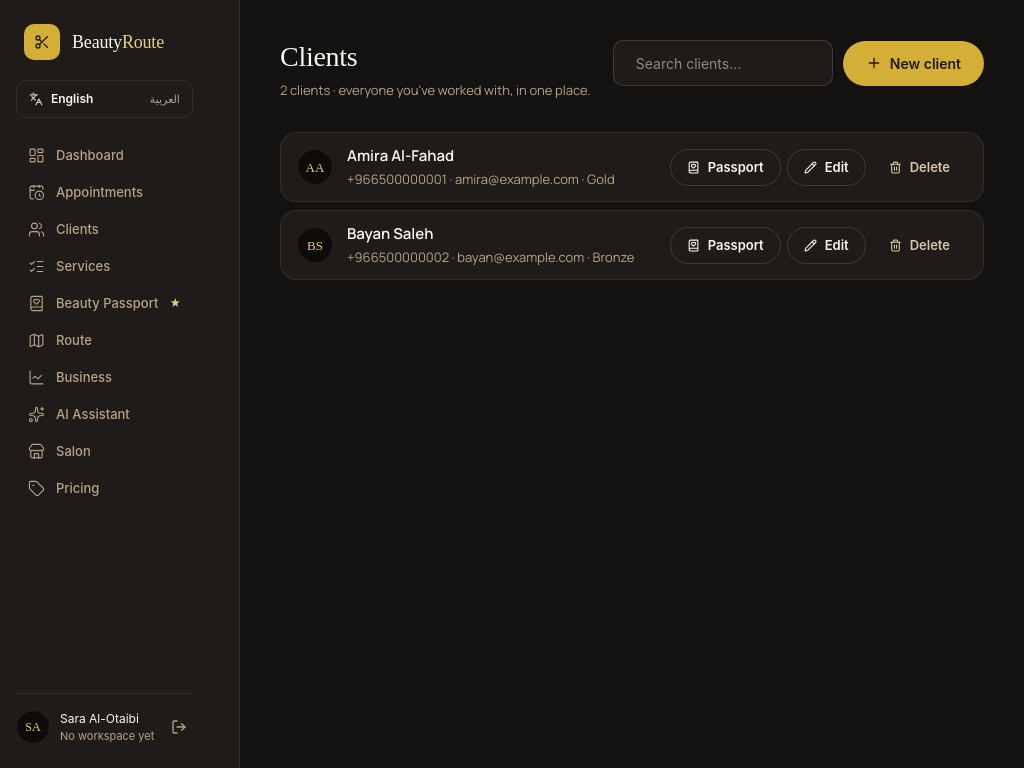
Test: Clients page › deletes a client successfully and removes it from the list
Expected: the text "Amira Al-Fahad" is shown, [347,145,454,166]
Click the button "Delete" in the row of "Gold". click: click(919, 167)
box: [872,149,967,186]
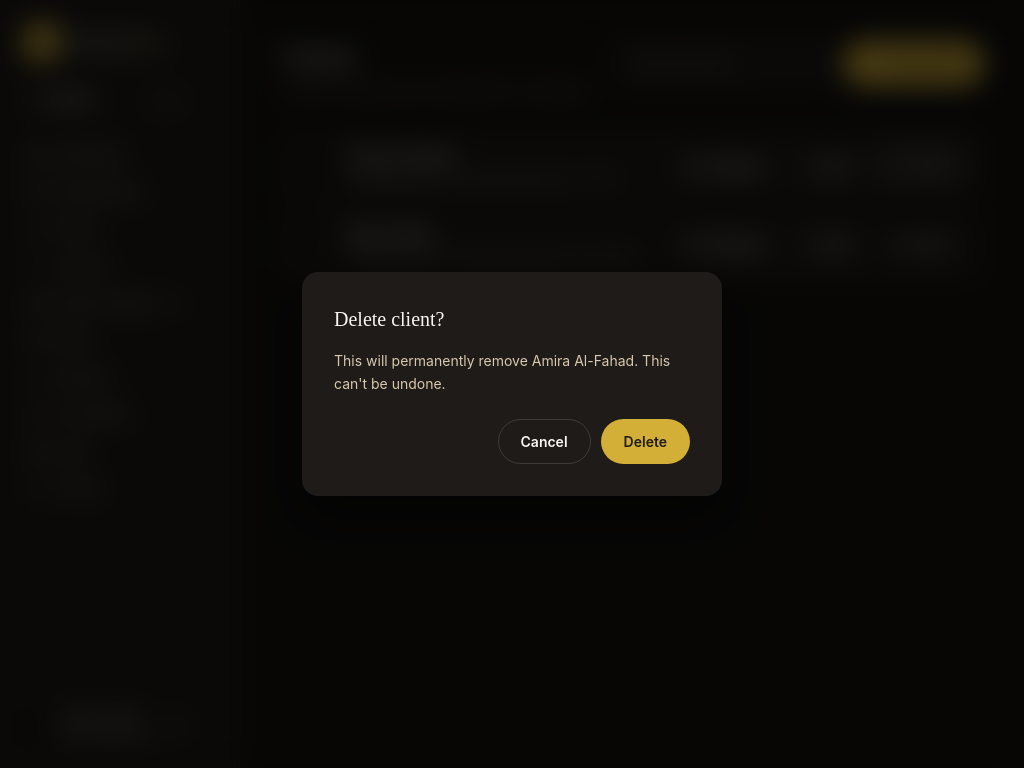
Click the button "Delete". click: click(645, 441)
box: [601,419,690,464]
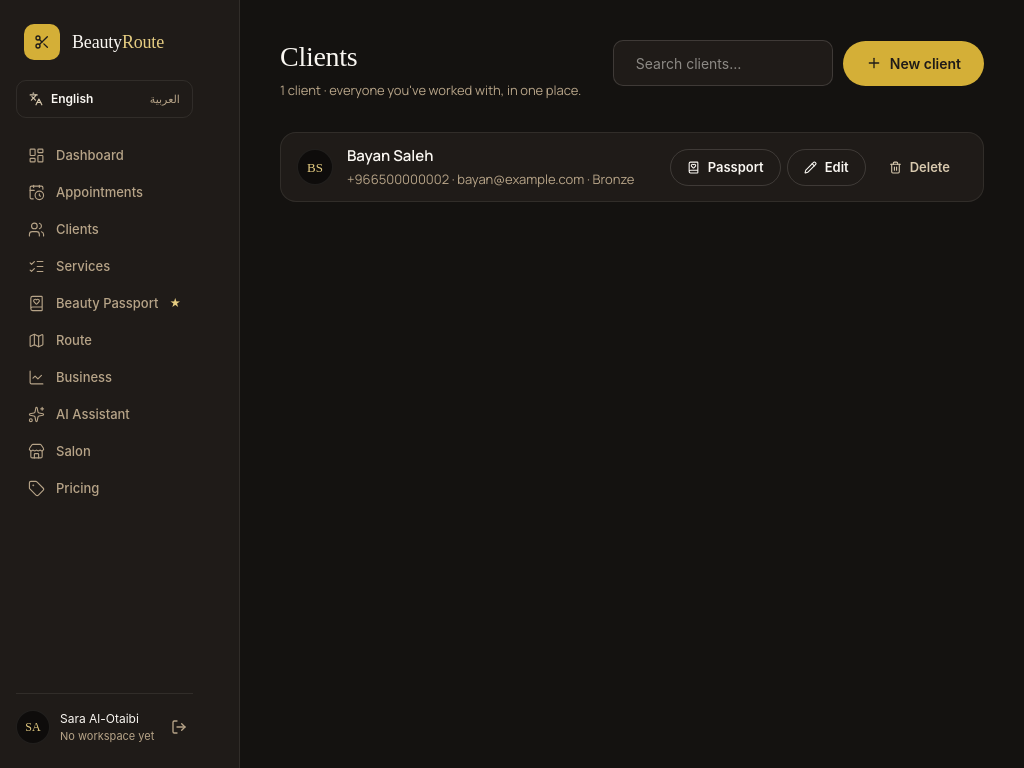
Result: the text "Amira Al-Fahad" is gone
